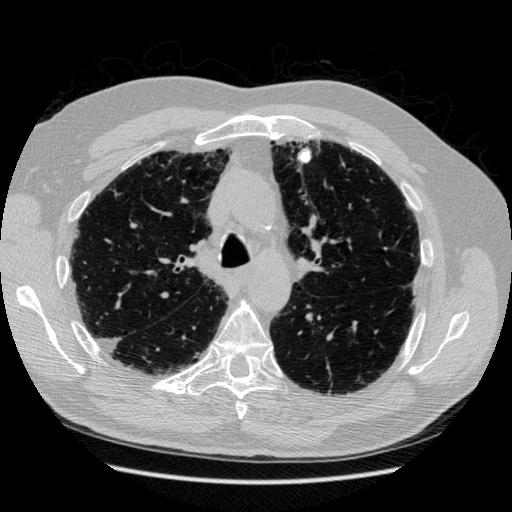nodule: (294, 146, 314, 166)
